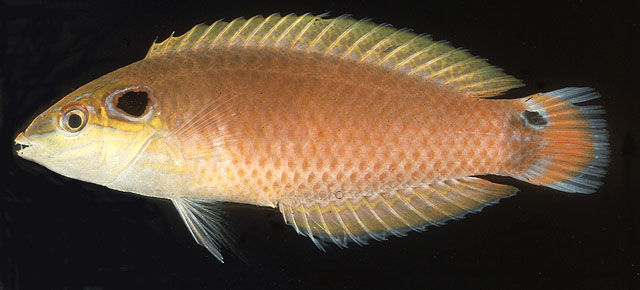fish: (12, 12, 610, 265)
